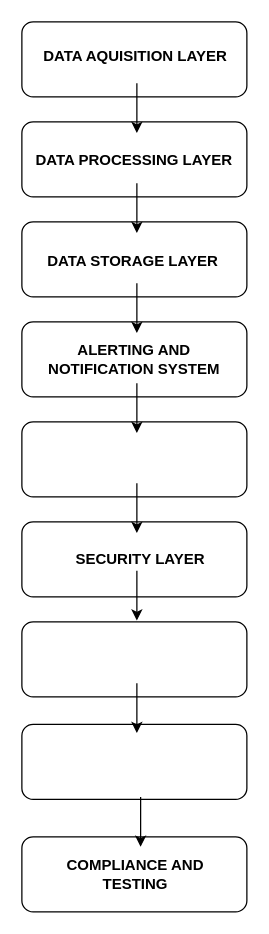
This 269x934 diagram has some shape labels left out. The shapes that lost their labels are listed below. From the top down, each one's box as (x1, y1, x2, y2) in pixels, then its label:
(21, 421, 247, 497): USER INTERFACE LAYER
(21, 621, 247, 697): SCALABILITY AND PERFORMANCE
(21, 723, 247, 799): MONITORING AND LOGGING
